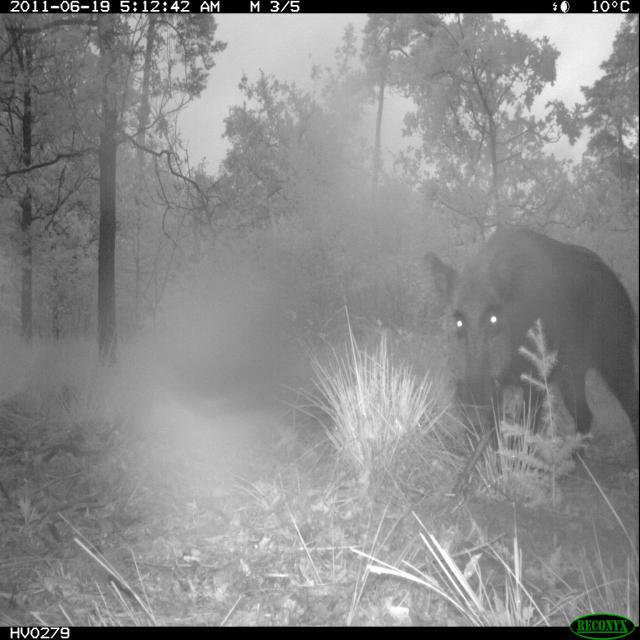boar: (414, 199, 640, 460)
